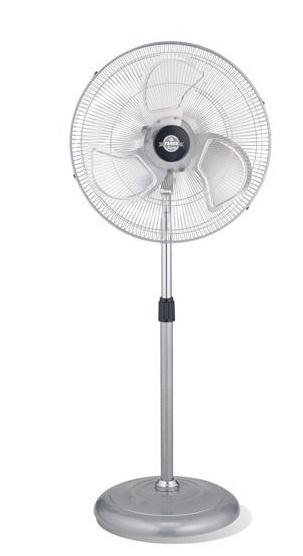fan: (71, 16, 272, 556)
